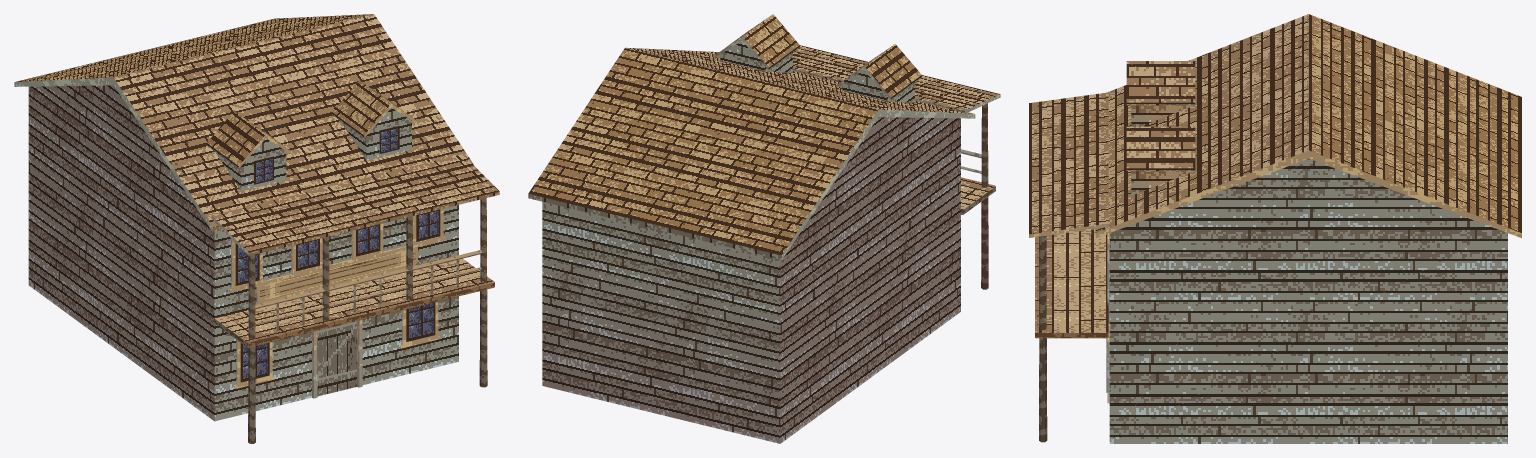
The model's file is wtown.hotel.glb.
3 renders of one model, left to right at view 1: azimuth 30°, elevation 25°; view 2: azimuth 150°, elevation 25°; view 3: azimuth 270°, elevation 25°, orthographic. The views are drawn at different scales.
Parts seen in each view (by area): view 1: kit_body, kit_roof, kit_veranda, kit_veranda_roof, kit_card_panes, kit_dormer_roofs, kit_dormers, kit_windows, kit_trim; view 2: kit_body, kit_roof, kit_dormer_roofs, kit_veranda_roof, kit_veranda, kit_dormers; view 3: kit_body, kit_roof, kit_veranda_roof, kit_veranda, kit_dormer_roofs, kit_dormers.
Boxes of the visible parts, x1=… form: kit_body: x1=28, y1=85, x2=458, y2=421; kit_roof: x1=14, y1=14, x2=473, y2=232; kit_veranda: x1=214, y1=198, x2=494, y2=443; kit_veranda_roof: x1=211, y1=154, x2=499, y2=255; kit_card_panes: x1=235, y1=126, x2=440, y2=396; kit_dormer_roofs: x1=206, y1=80, x2=418, y2=168; kit_dormers: x1=215, y1=108, x2=411, y2=191; kit_windows: x1=229, y1=208, x2=445, y2=388; kit_trim: x1=256, y1=246, x2=417, y2=398; kit_body: x1=542, y1=117, x2=960, y2=443; kit_roof: x1=528, y1=47, x2=975, y2=259; kit_dormer_roofs: x1=715, y1=14, x2=921, y2=99; kit_veranda_roof: x1=793, y1=45, x2=1000, y2=112; kit_veranda: x1=961, y1=103, x2=995, y2=289; kit_dormers: x1=720, y1=41, x2=914, y2=102; kit_body: x1=1109, y1=158, x2=1507, y2=443; kit_roof: x1=1095, y1=14, x2=1521, y2=238; kit_veranda_roof: x1=1029, y1=92, x2=1108, y2=237; kit_veranda: x1=1035, y1=229, x2=1108, y2=442; kit_dormer_roofs: x1=1126, y1=61, x2=1195, y2=170; kit_dormers: x1=1131, y1=105, x2=1194, y2=195.
Bounding box in the file's own units: 8.1 × 8.25 × 12.37.
Materials: 10 (10 with a texture image).
